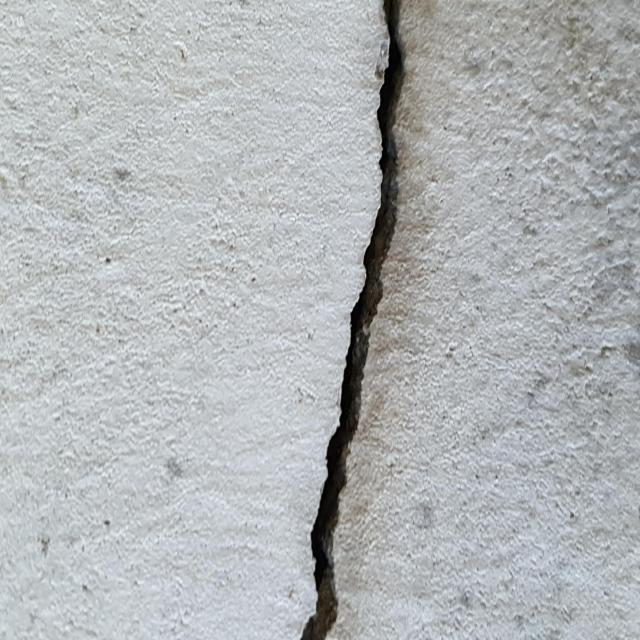SurfaceCrack: (260, 1, 451, 640)
